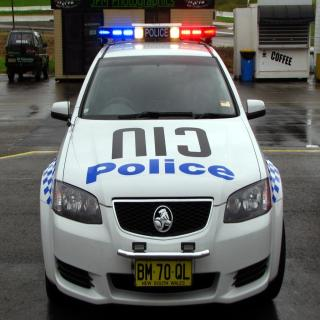license: (132, 254, 198, 295), (9, 59, 17, 63)
